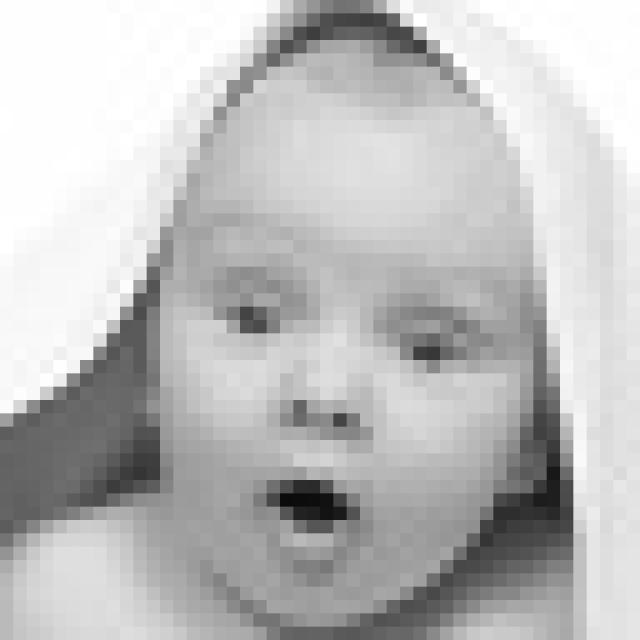surprise: (192, 254, 527, 581)
